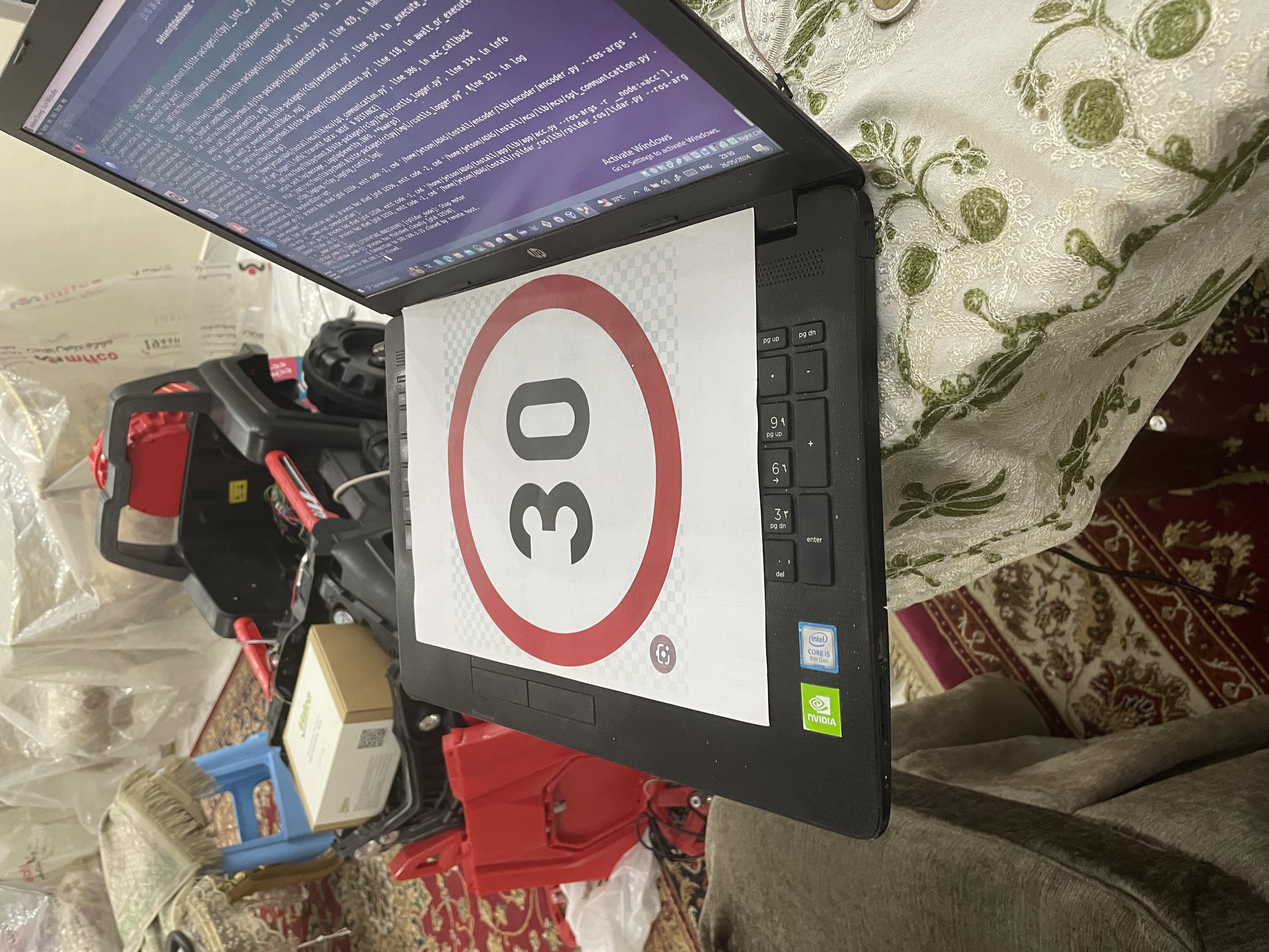30-speed: (387, 336, 905, 507)
